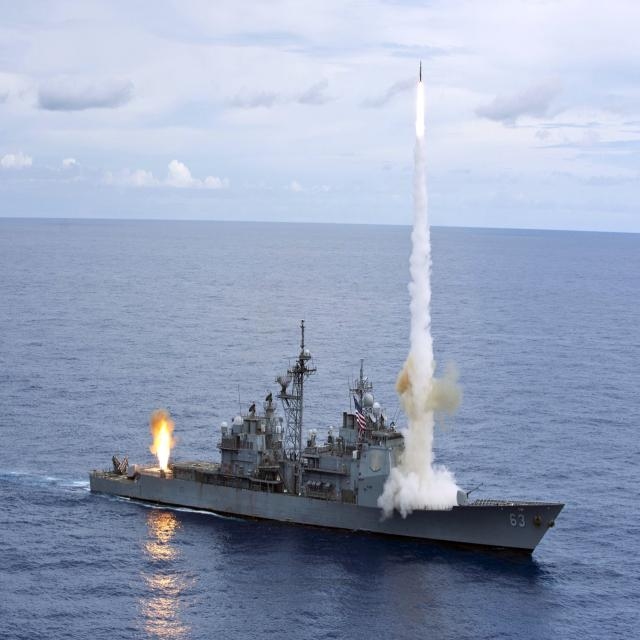navalvessels: (65, 297, 569, 555)
